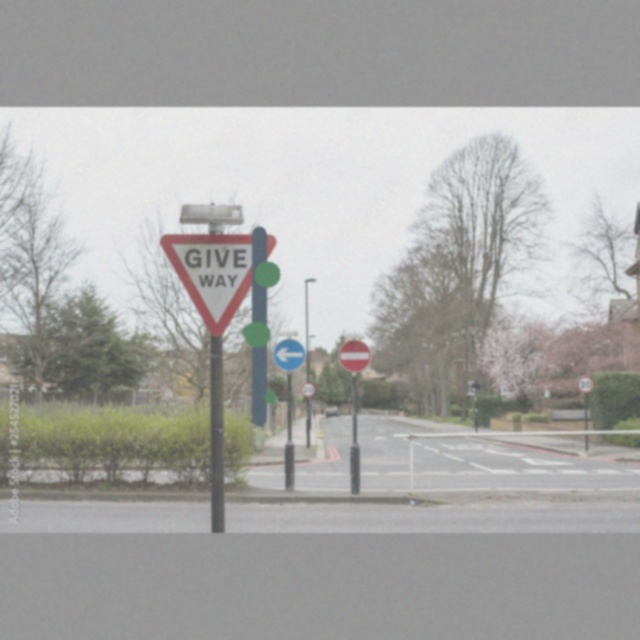Give_Way: (160, 234, 278, 336)
